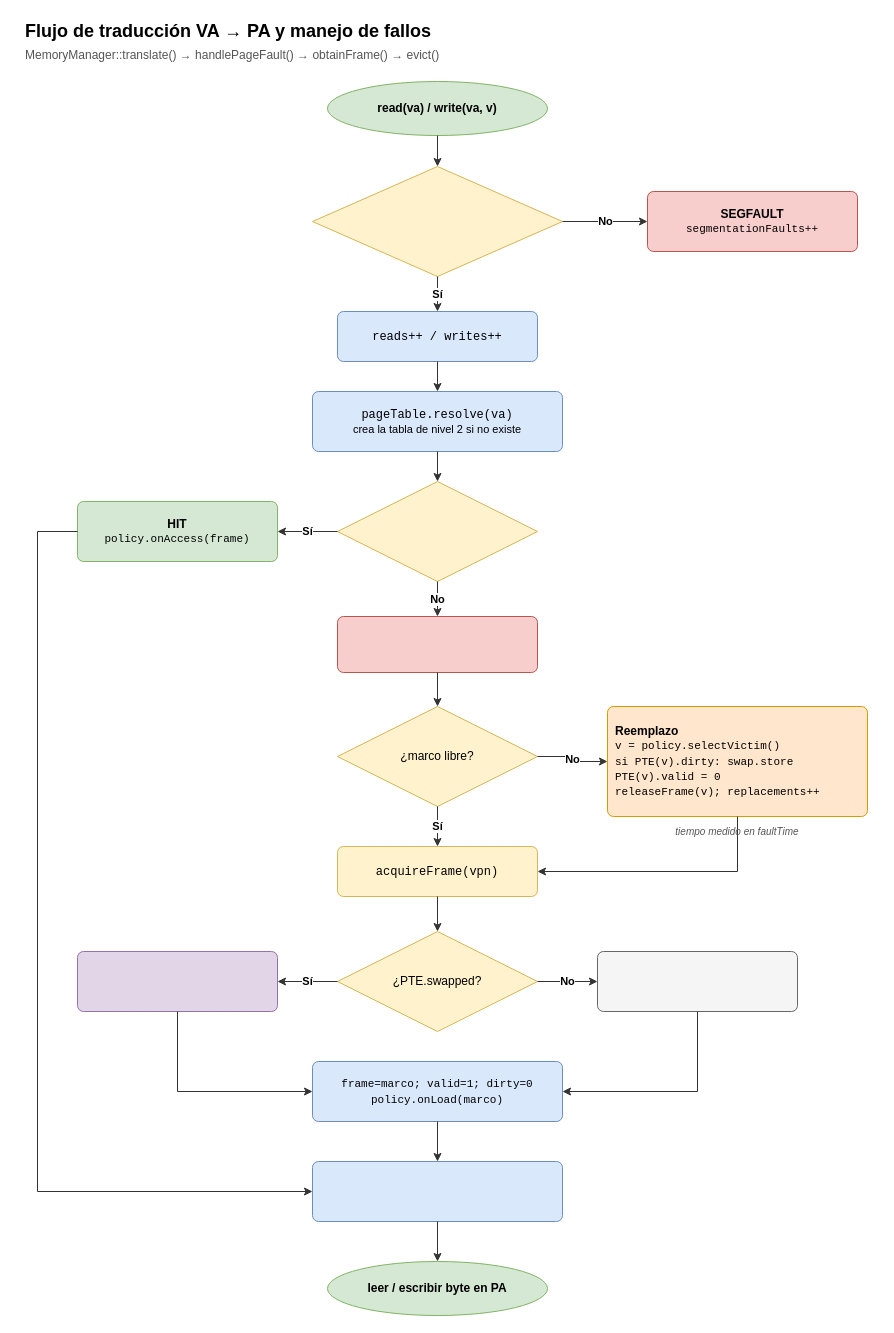
Image size: 894x1333. Some labels were removed from this diagram. Here are the shapes that lost their labels. From the top down, the centre of each, then its label:
At (x=437, y=221): "¿va pertenece a una región asignada?".
At (x=437, y=531): "¿PTE.valid?".
At (x=437, y=644): "FALLO DE PÁGINA pageFaults++".
At (x=177, y=981): "swap.load(vpn, marco) swapIns++".
At (x=697, y=981): "zeroFrame(marco) zeroFills++".
At (x=437, y=1191): "accessed = 1; si write: dirty = 1 PA = frame << offBits | offset".
